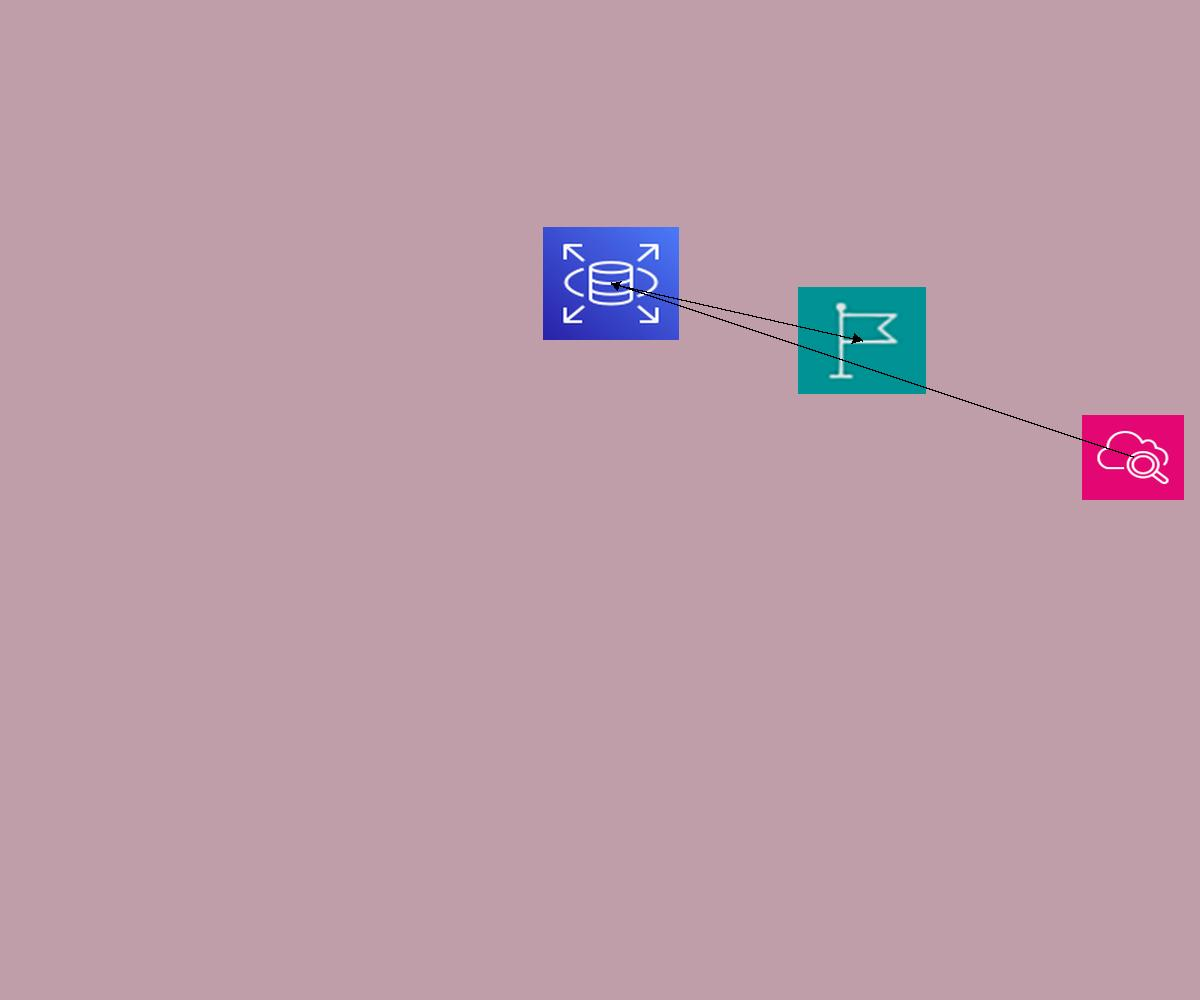AWS-CloudWatch: (1082, 415, 1184, 500)
AWS-RDS: (543, 227, 679, 340)
AWS-Region: (798, 287, 926, 394)
